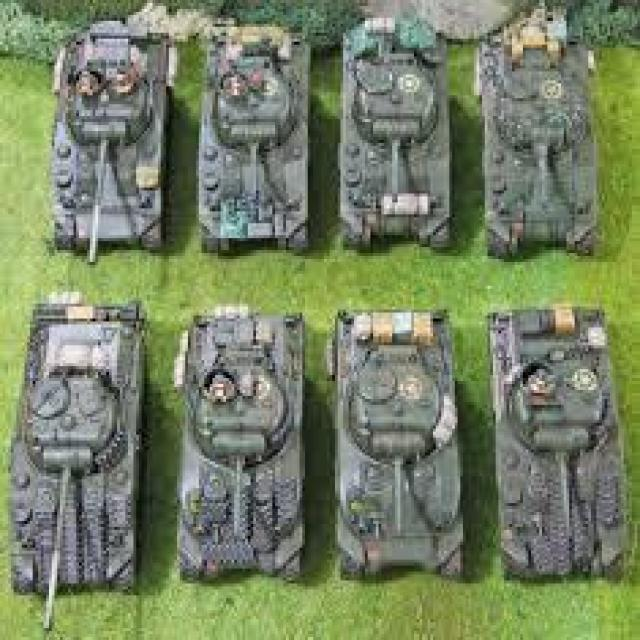Tanks: (484, 309, 624, 572), (334, 306, 464, 580), (178, 305, 304, 582), (22, 299, 136, 594), (46, 13, 169, 255), (194, 17, 314, 255), (478, 28, 600, 252), (340, 15, 455, 250)
